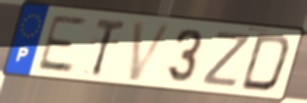3: (164, 27, 206, 84)
D: (238, 32, 294, 94)
E: (34, 12, 89, 75)
T: (89, 16, 128, 78)
V: (126, 20, 176, 83)
Z: (199, 29, 254, 90)
